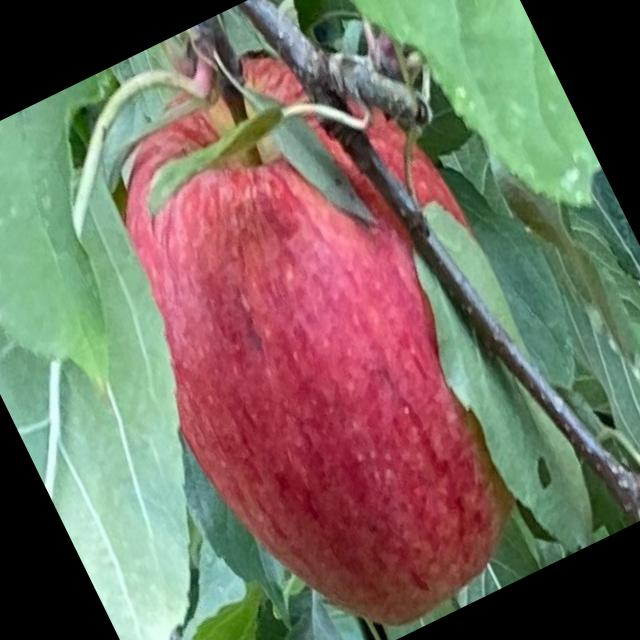Apples: (45, 2, 611, 639)
